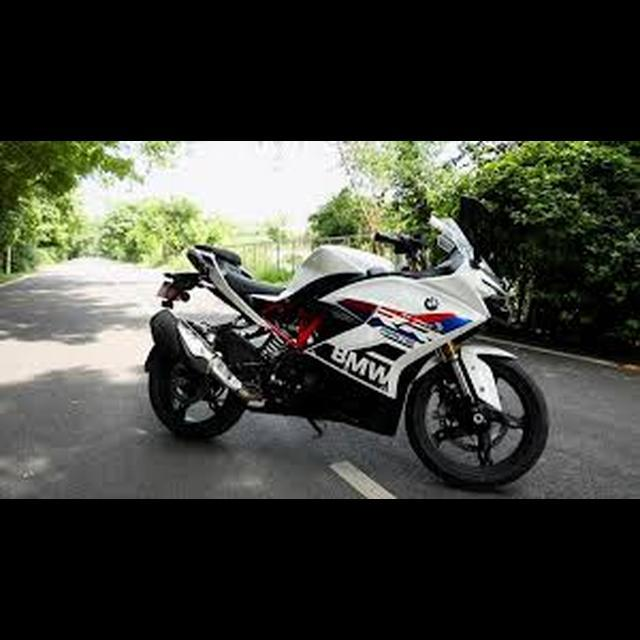motorcycle: (145, 179, 553, 492)
